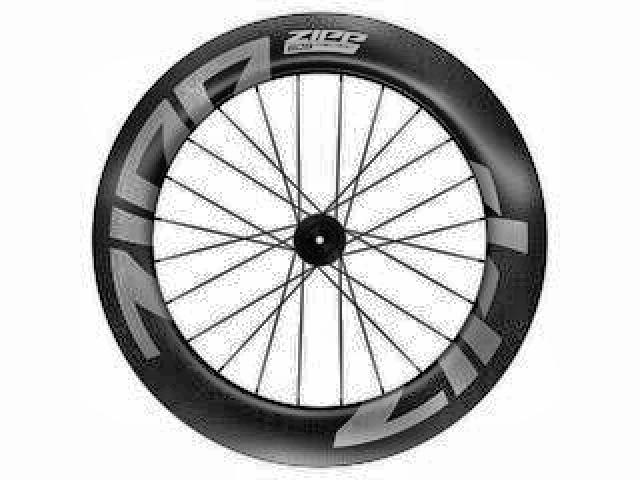wheel: (86, 8, 551, 472)
